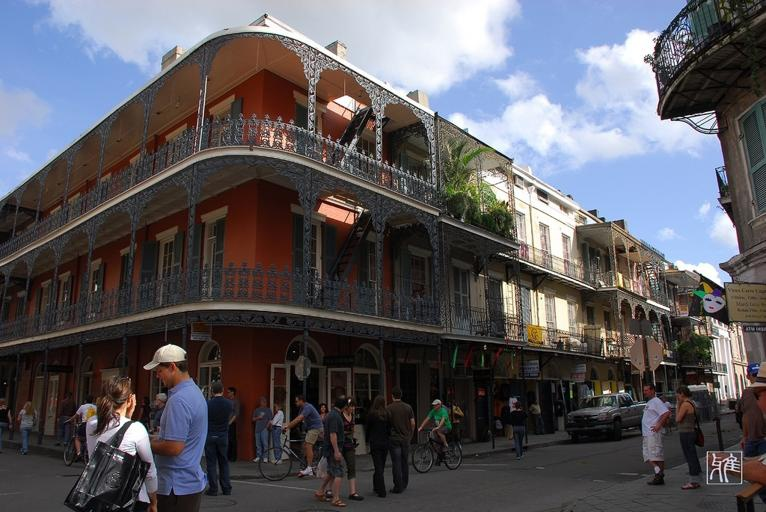non-vehicle: (255, 426, 325, 483), (410, 429, 462, 475), (57, 415, 91, 466)
